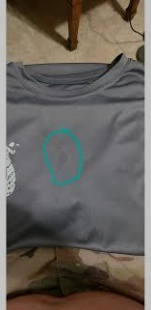oil: (55, 144, 69, 169)
